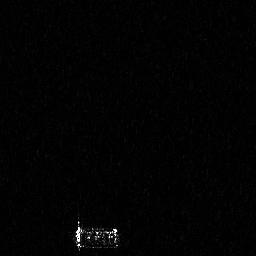ship: (68, 214, 121, 255)
